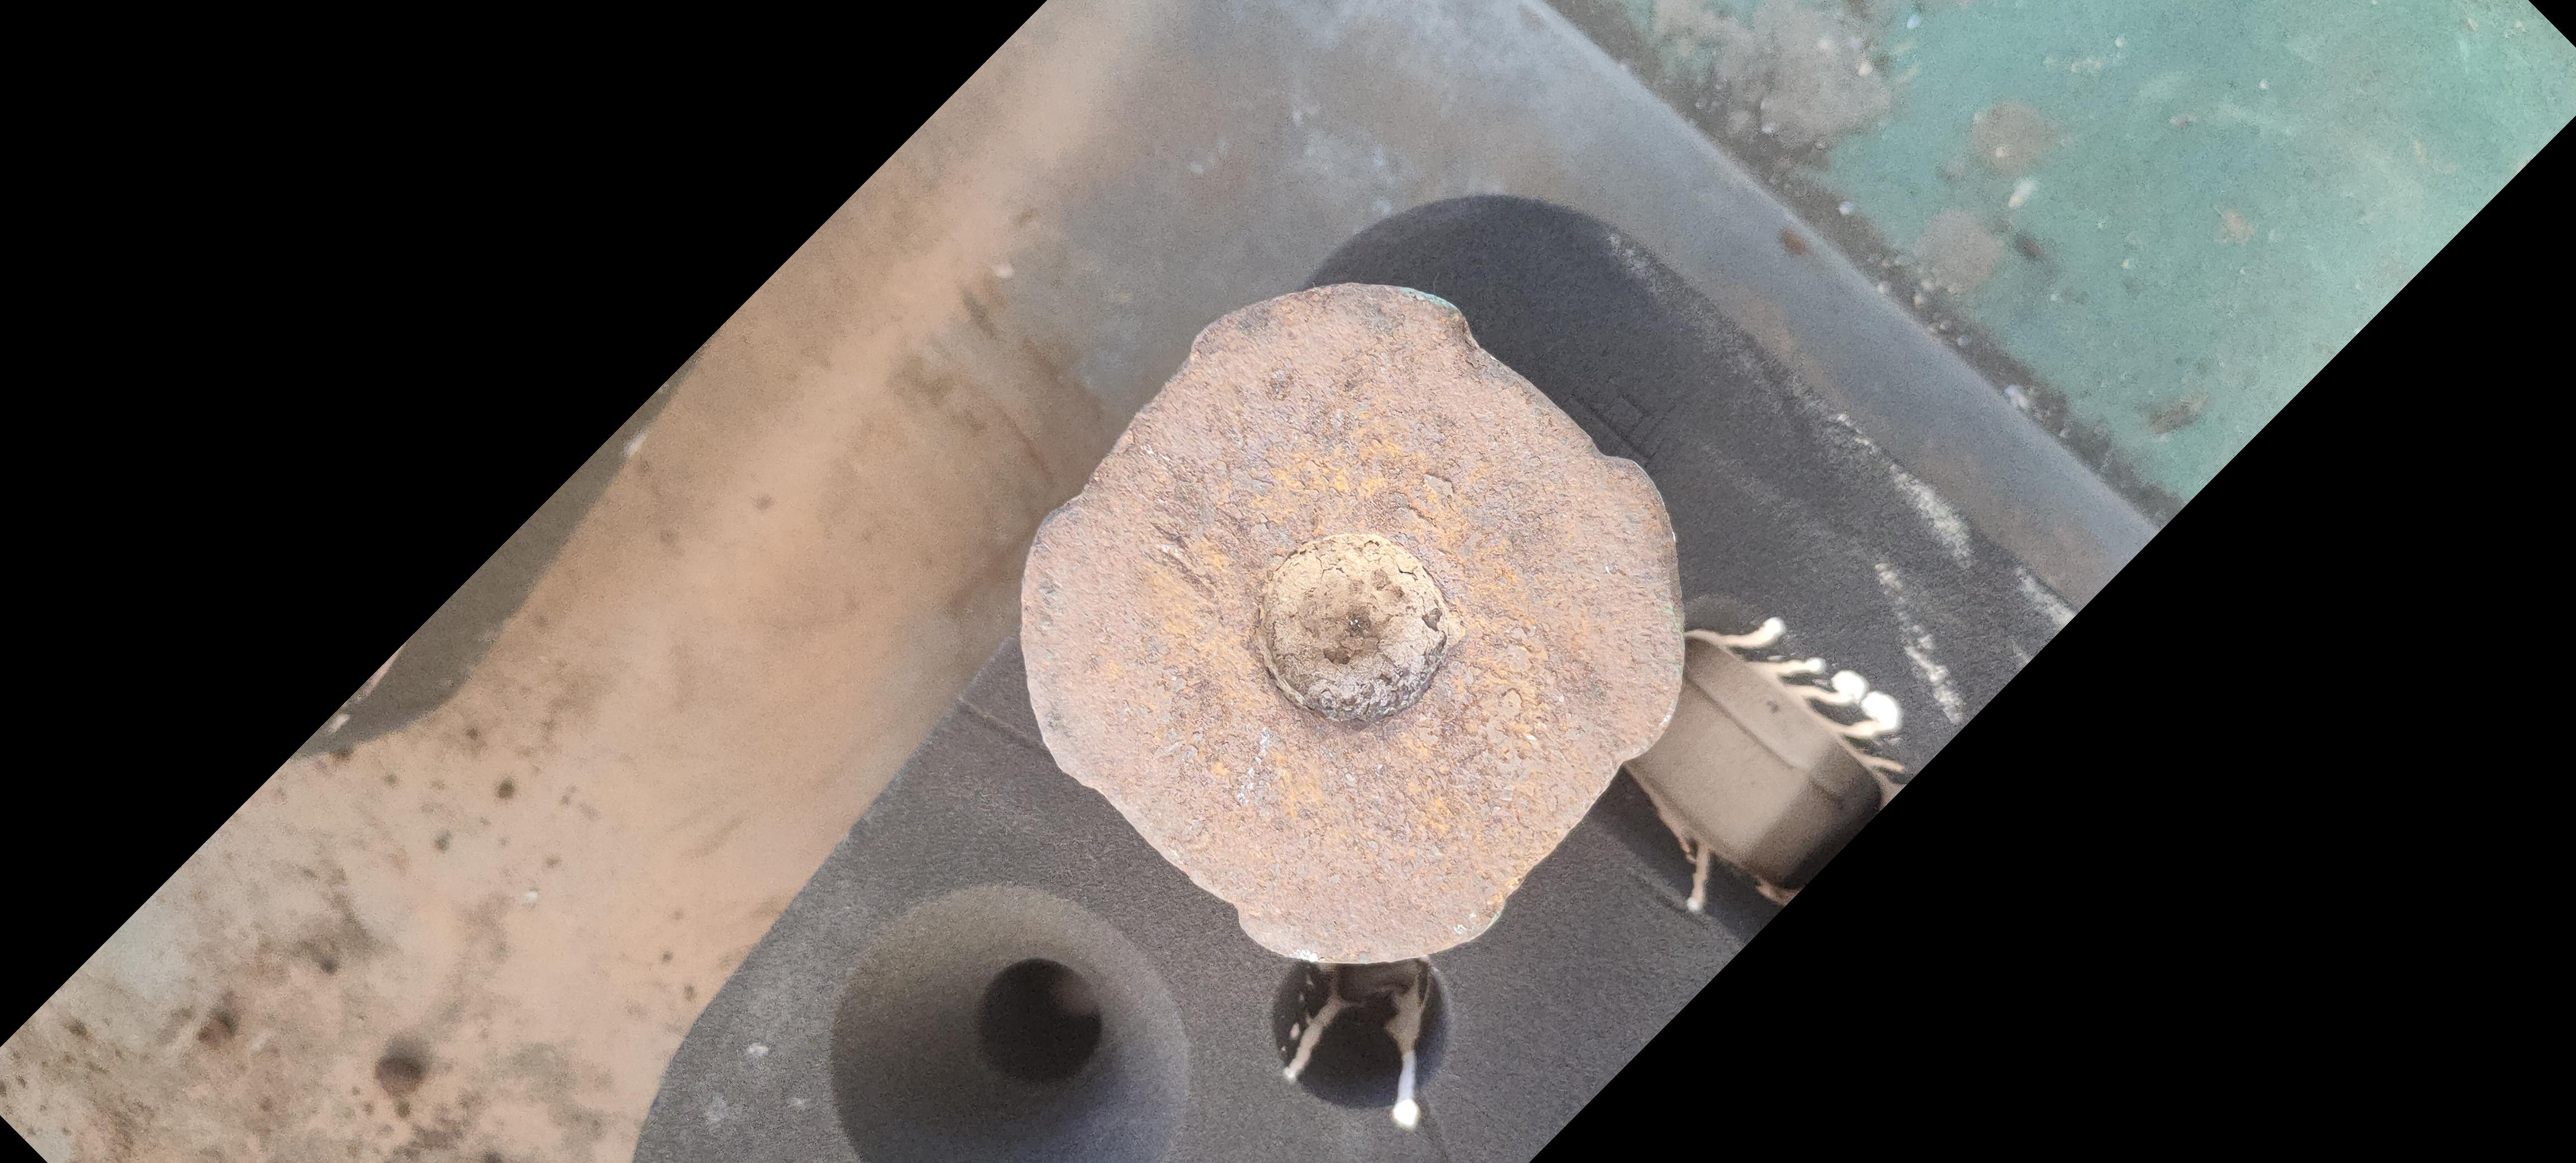pouring hole: (825, 882, 1193, 1163)
